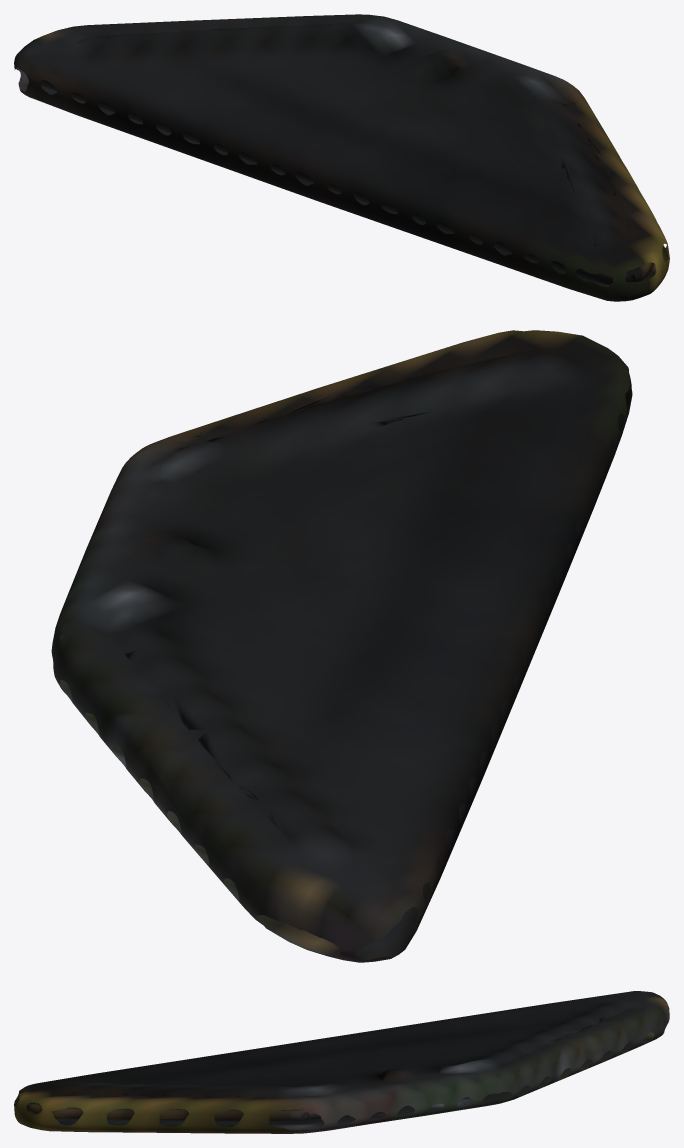
Rendered from layer2butterflyr.fbx.
The picture shows the model from 3 angles, top to bottom: view 1: azimuth 30°, elevation 25°; view 2: azimuth 150°, elevation 25°; view 3: azimuth 270°, elevation 25°; orthographic projection. The views are drawn at different scales.
Visible parts, largest first — view 1: layer2butterflyr; view 2: layer2butterflyr; view 3: layer2butterflyr.
Part boxes in pixels (<box>): layer2butterflyr: <box>14,14,669,301</box>; layer2butterflyr: <box>51,330,632,962</box>; layer2butterflyr: <box>14,991,669,1133</box>.
Bounding box in the file's own units: 2.04 × 0.4206 × 3.77.
1 material, 1 textured.
